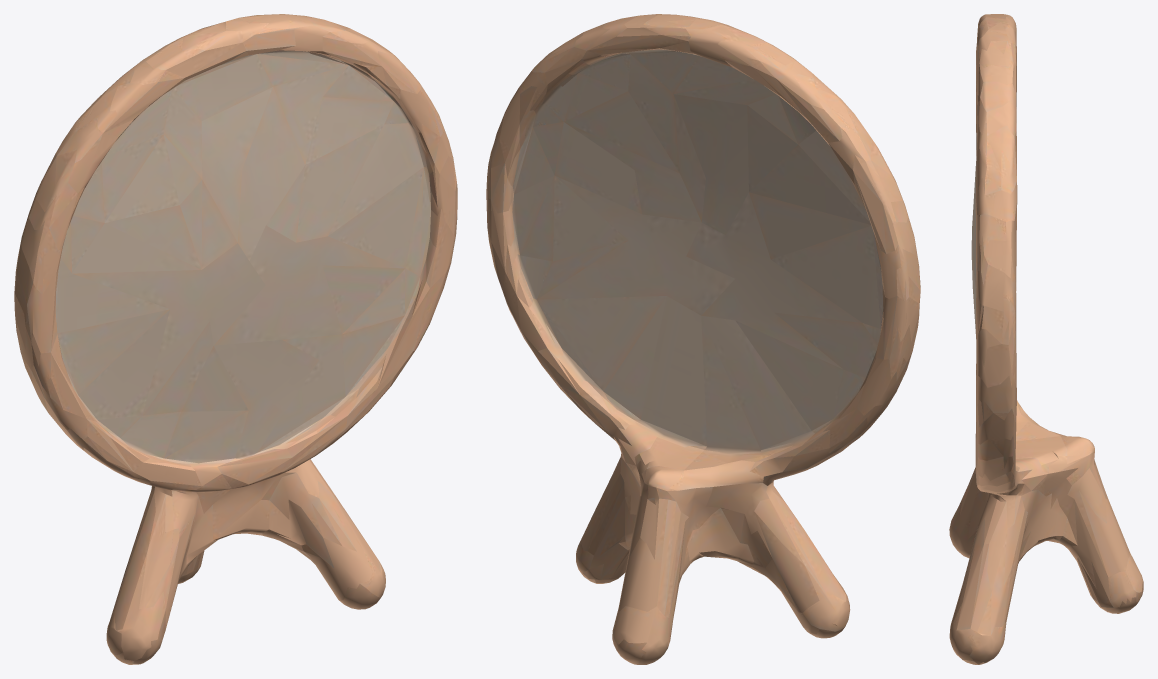
The model's file is mirror.f54db8e3.glb.
3 renders of one model, left to right at view 1: azimuth 30°, elevation 25°; view 2: azimuth 150°, elevation 25°; view 3: azimuth 270°, elevation 25°, orthographic. The views are drawn at different scales.
Visible parts, largest first — view 1: output_unwrapped; view 2: output_unwrapped; view 3: output_unwrapped.
Boxes of the visible parts, bbox=[...] form: output_unwrapped: bbox=[14, 14, 457, 664]; output_unwrapped: bbox=[486, 14, 920, 664]; output_unwrapped: bbox=[949, 14, 1143, 664].
Size of the model in its own units: 1.42 by 1.9 by 0.5817.
1 material, 1 textured.
